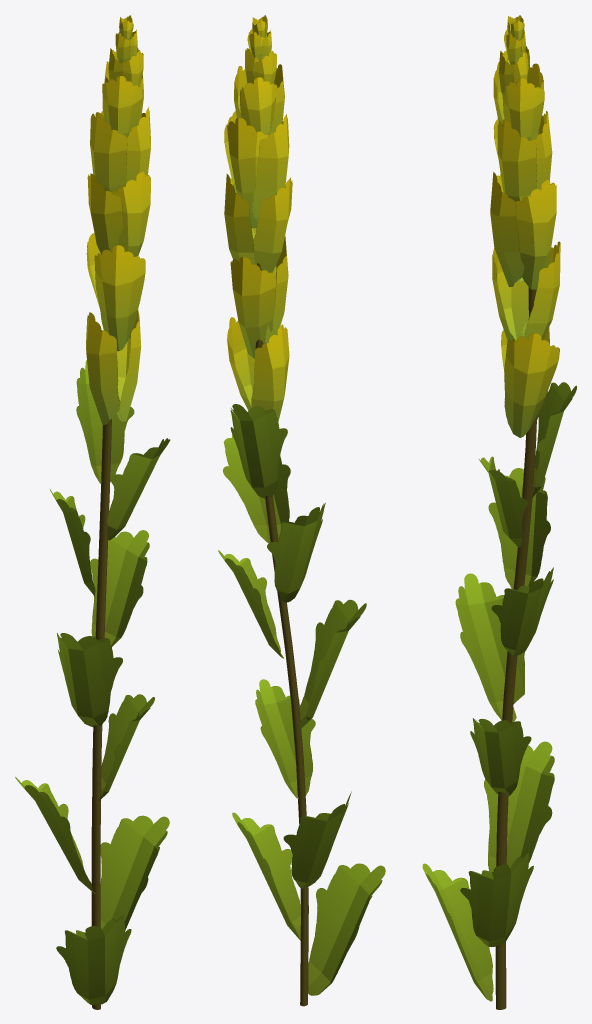
Rendered from goldenpaintbrushSMALLCTD.fbx.
3 renders of one model, left to right at view 1: azimuth 30°, elevation 25°; view 2: azimuth 150°, elevation 25°; view 3: azimuth 270°, elevation 25°, orthographic. The views are drawn at different scales.
Parts seen in each view (by area): view 1: leaf.023, petal.029, BezierCurve.001; view 2: leaf.023, petal.029, BezierCurve.001; view 3: leaf.023, petal.029, BezierCurve.001.
Boxes of the visible parts, <box> form: leaf.023: <box>15,360,170,1005</box>; petal.029: <box>86,15,150,424</box>; BezierCurve.001: <box>91,419,111,1009</box>; leaf.023: <box>218,404,385,995</box>; petal.029: <box>224,15,292,421</box>; BezierCurve.001: <box>255,263,308,1006</box>; leaf.023: <box>422,382,576,1001</box>; petal.029: <box>490,15,560,437</box>; BezierCurve.001: <box>495,287,537,1009</box>.
Bounding box in the file's own units: 10.96 × 66.18 × 9.39.
